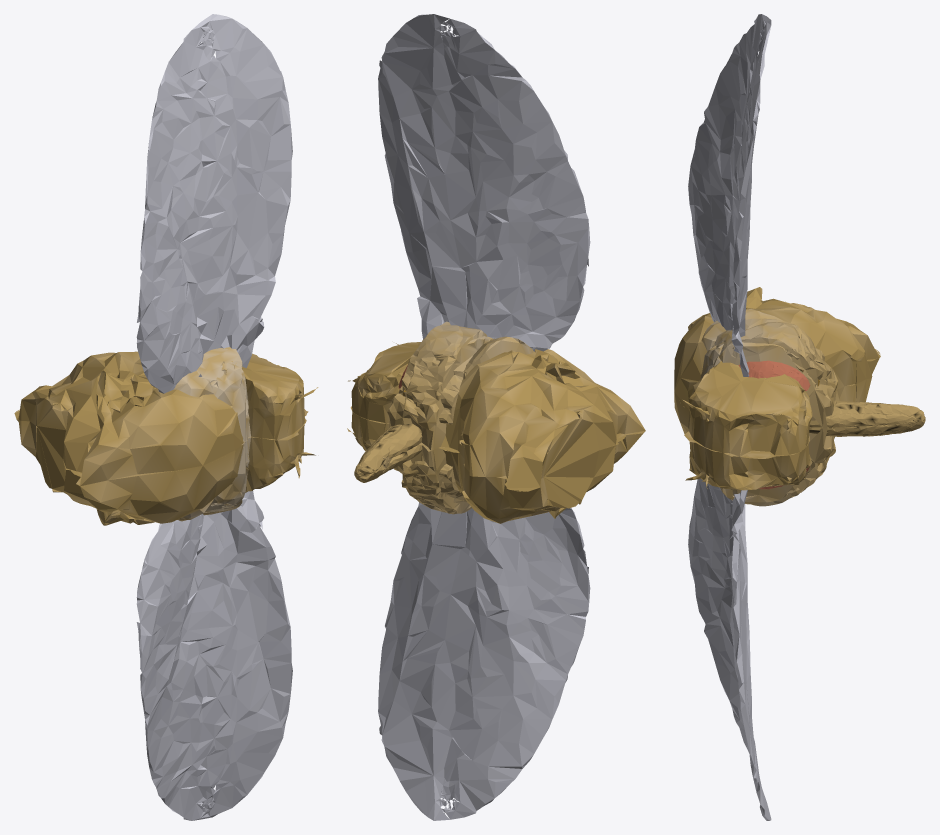
File: neuromechfly.glb
3 views of the same model, side by side, from view 1: azimuth 30°, elevation 25°; view 2: azimuth 150°, elevation 25°; view 3: azimuth 270°, elevation 25° (orthographic).
Parts seen in each view (by area): view 1: l_wing, r_wing, c_thorax, c_head, c_abdomen3, c_abdomen4, c_abdomen12; view 2: l_wing, r_wing, c_thorax, c_abdomen3, c_head, c_abdomen5, c_abdomen4, c_abdomen12, rh_trochanterfemur, lf_trochanterfemur; view 3: l_wing, c_head, r_wing, c_thorax, c_abdomen3, c_abdomen4, rh_trochanterfemur, lh_trochanterfemur, l_eye, c_abdomen12, c_abdomen5.
Part boxes in pixels (x1=…): l_wing: x1=136, y1=14, x2=292, y2=393; r_wing: x1=136, y1=491, x2=292, y2=820; c_thorax: x1=14, y1=351, x2=243, y2=525; c_head: x1=242, y1=353, x2=318, y2=492; c_abdomen3: x1=202, y1=348, x2=245, y2=515; c_abdomen4: x1=196, y1=347, x2=249, y2=512; c_abdomen12: x1=173, y1=371, x2=213, y2=521; l_wing: x1=378, y1=14, x2=590, y2=351; r_wing: x1=378, y1=502, x2=590, y2=820; c_thorax: x1=439, y1=338, x2=645, y2=523; c_abdomen3: x1=387, y1=325, x2=486, y2=514; c_head: x1=347, y1=342, x2=421, y2=451; c_abdomen5: x1=402, y1=355, x2=472, y2=502; c_abdomen4: x1=401, y1=321, x2=492, y2=512; c_abdomen12: x1=463, y1=336, x2=533, y2=503; rh_trochanterfemur: x1=354, y1=424, x2=401, y2=480; lf_trochanterfemur: x1=367, y1=424, x2=422, y2=458; l_wing: x1=688, y1=14, x2=771, y2=376; c_head: x1=683, y1=361, x2=812, y2=490; r_wing: x1=688, y1=478, x2=771, y2=820; c_thorax: x1=674, y1=287, x2=880, y2=433; c_abdomen3: x1=700, y1=318, x2=839, y2=502; c_abdomen4: x1=713, y1=322, x2=827, y2=506; rh_trochanterfemur: x1=809, y1=403, x2=925, y2=436; lh_trochanterfemur: x1=809, y1=410, x2=925, y2=436; l_eye: x1=738, y1=360, x2=810, y2=390; c_abdomen12: x1=701, y1=309, x2=782, y2=351; c_abdomen5: x1=800, y1=349, x2=835, y2=487.
Bounding box in the file's own units: 0.00152 × 0.0046 × 0.00131.
